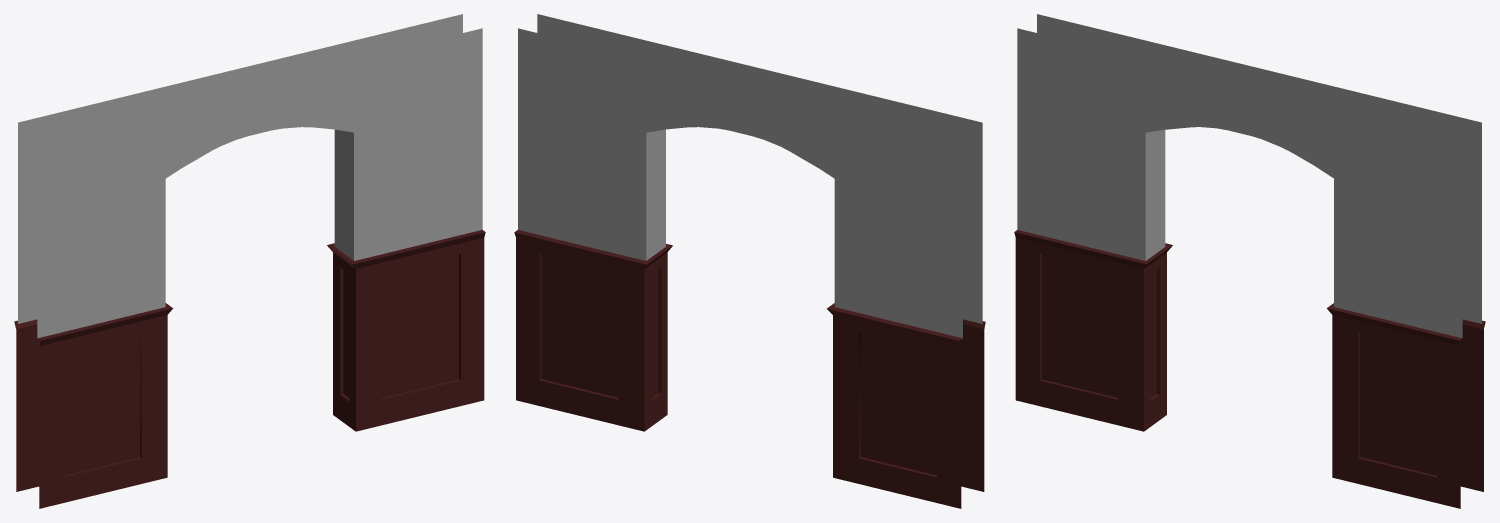
File: HallFrame.fbx
3 views of the same model, side by side, from view 1: azimuth 30°, elevation 25°; view 2: azimuth 150°, elevation 25°; view 3: azimuth 330°, elevation 25° (orthographic).
Visible parts, largest first — view 1: polySurface53; view 2: polySurface53; view 3: polySurface53.
Part boxes in pixels (x1,y1,x2,y2): polySurface53: (14,14,485,508); polySurface53: (514,14,985,508); polySurface53: (1014,14,1485,508).
Bounding box in the file's own units: 4 × 3.18 × 0.4112.
